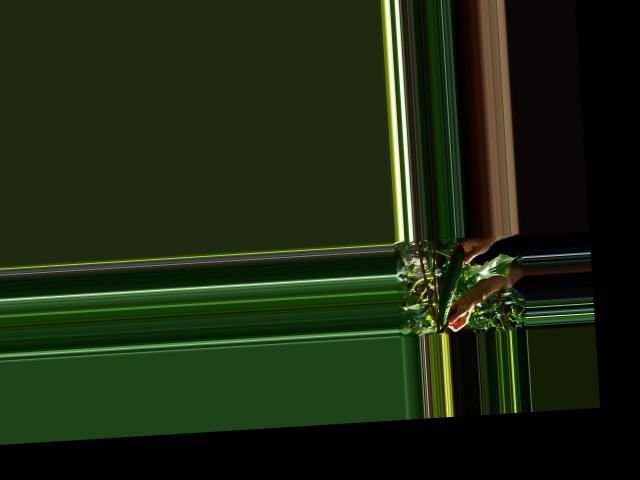cucumber: (434, 244, 469, 325)
